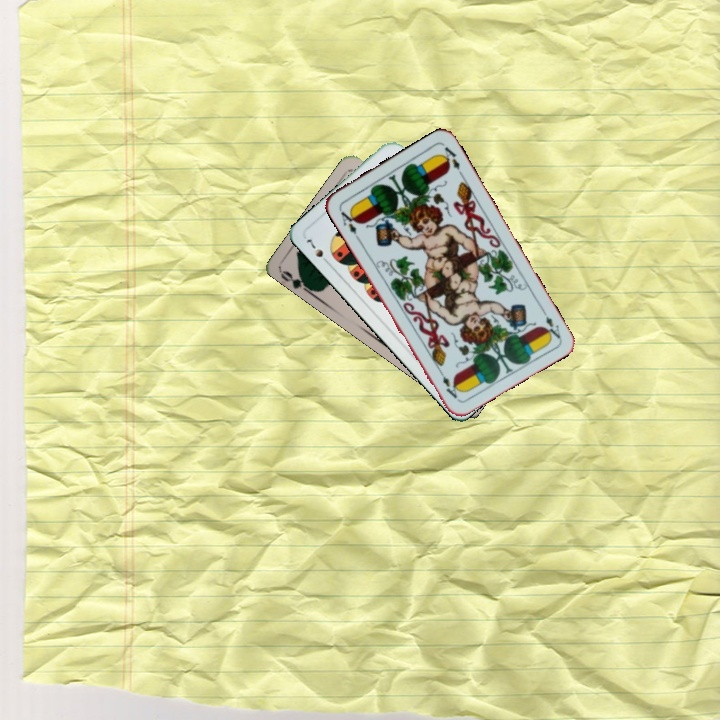EA: (537, 304, 563, 342), (335, 204, 361, 237)
GO: (277, 267, 315, 297)
S7: (302, 235, 332, 267)
